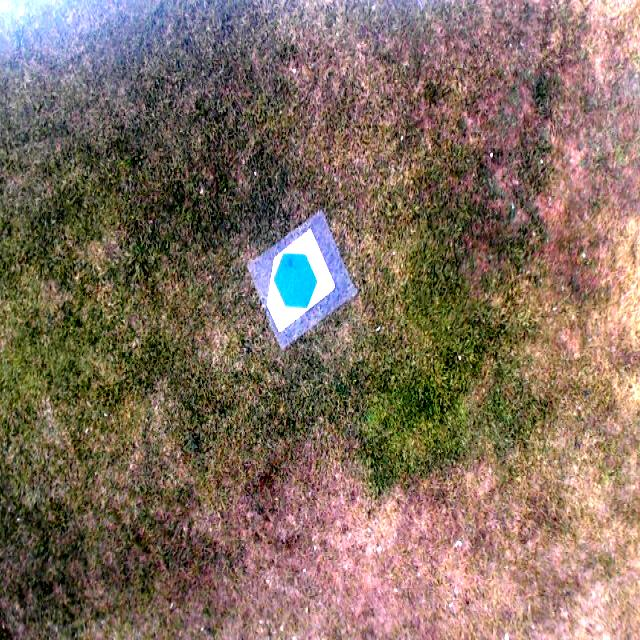blue_hexagon: (272, 252, 318, 308)
